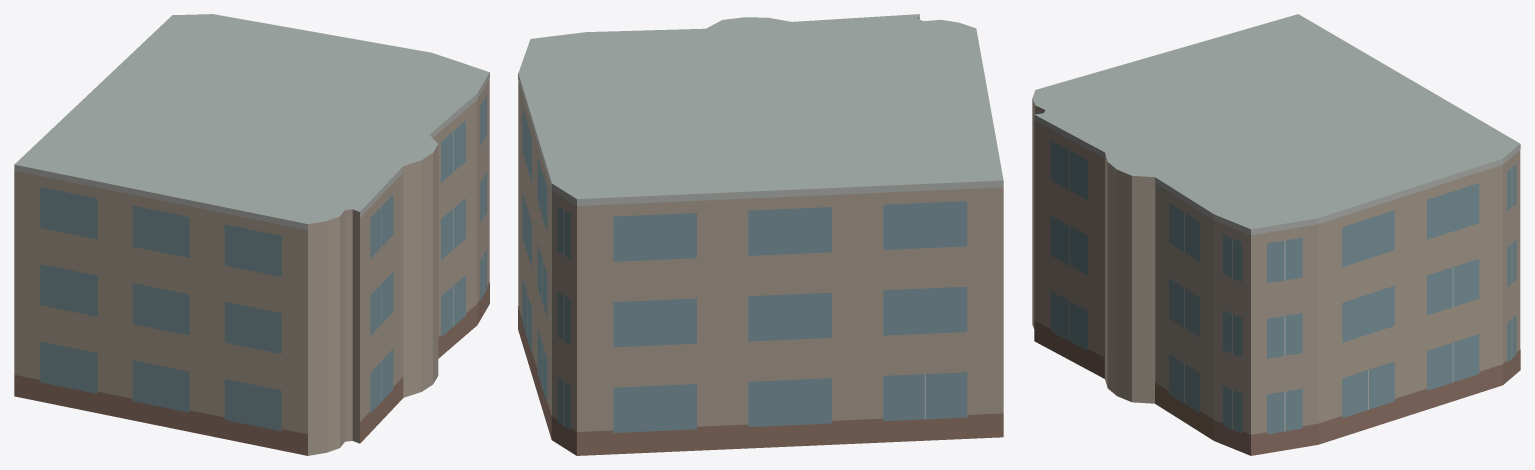
The model's file is survey-upis-32913284.glb.
The picture shows the model from 3 angles, left to right: view 1: azimuth 30°, elevation 25°; view 2: azimuth 150°, elevation 25°; view 3: azimuth 270°, elevation 25°; orthographic projection. The views are drawn at different scales.
Parts seen in each view (by area): view 1: survey-upis-32913284.tmp; view 2: survey-upis-32913284.tmp; view 3: survey-upis-32913284.tmp.
Part boxes in pixels (<box>): survey-upis-32913284.tmp: <box>14,14,489,455</box>; survey-upis-32913284.tmp: <box>518,14,1003,455</box>; survey-upis-32913284.tmp: <box>1032,14,1520,455</box>.
Bounding box in the file's own units: 18.66 × 9.15 × 17.87.
